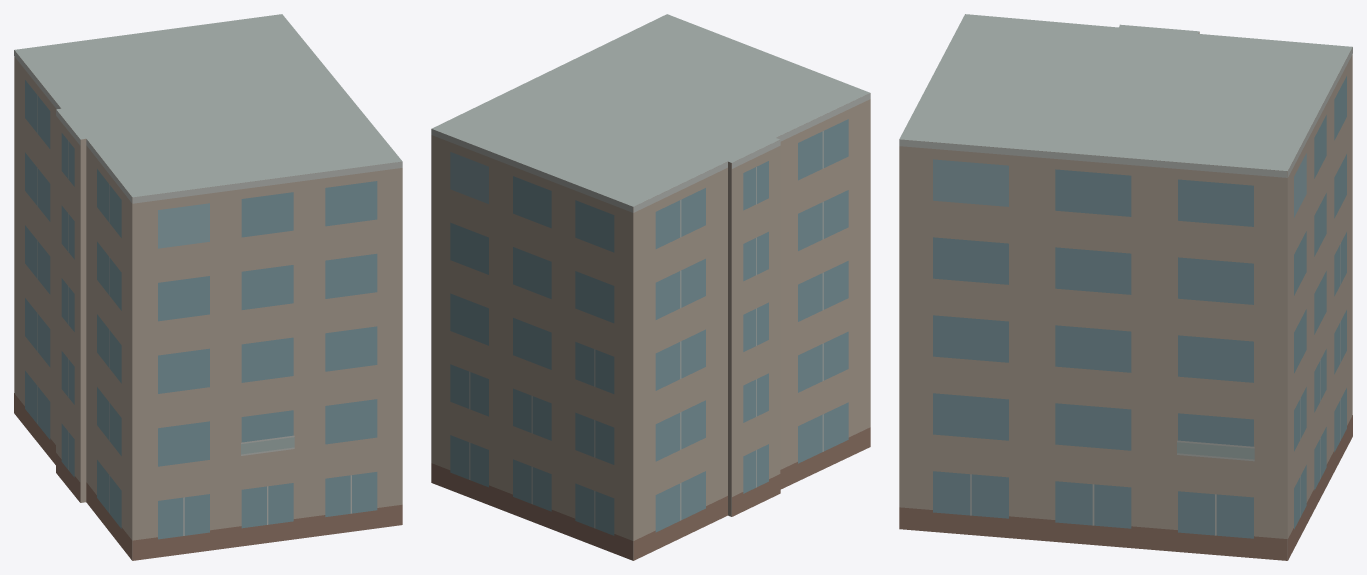
File: survey-upis-32653307.glb
The picture shows the model from 3 angles, left to right: view 1: azimuth 30°, elevation 25°; view 2: azimuth 150°, elevation 25°; view 3: azimuth 270°, elevation 25°; orthographic projection. The views are drawn at different scales.
Parts seen in each view (by area): view 1: survey-upis-32653307.tmp; view 2: survey-upis-32653307.tmp; view 3: survey-upis-32653307.tmp.
Boxes of the visible parts, box(x1,y1,x2,y2) form: survey-upis-32653307.tmp: box(14, 14, 402, 560); survey-upis-32653307.tmp: box(431, 14, 870, 560); survey-upis-32653307.tmp: box(899, 14, 1352, 560).
Size of the model in its own units: 12.12 by 14 by 14.78.
